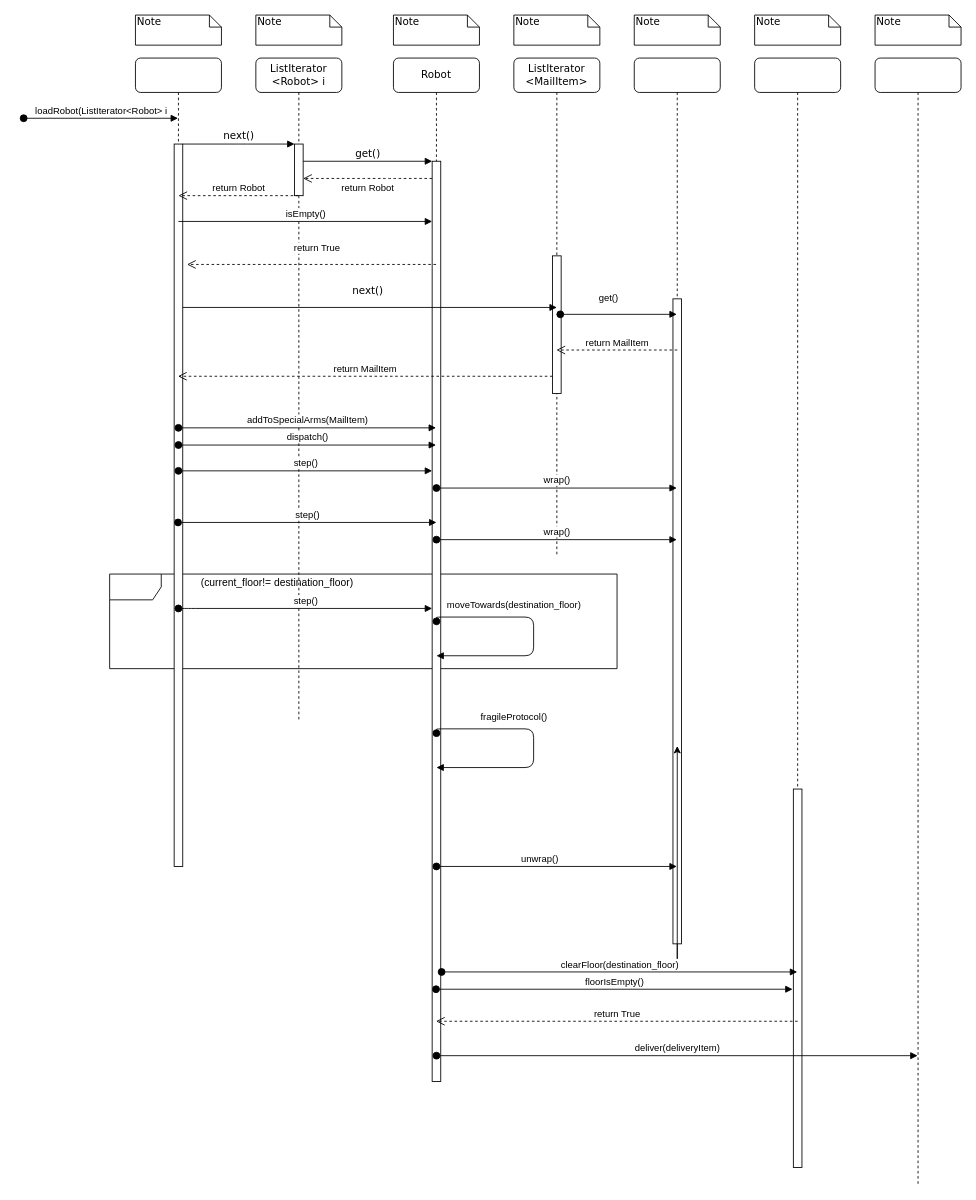
This 976x1200 diagram has some shape labels left out. The shapes that lost their labels are listed below. From the top down, each one's box as (x1, y1, x2, y2) in pixels, then its label:
(135, 57, 221, 866): MailPool
(633, 57, 720, 944): MailItem fragileItem
(109, 573, 617, 669): loop
(754, 57, 841, 1167): BuildingSpec
(874, 57, 961, 1185): IMailDelivery delivery
